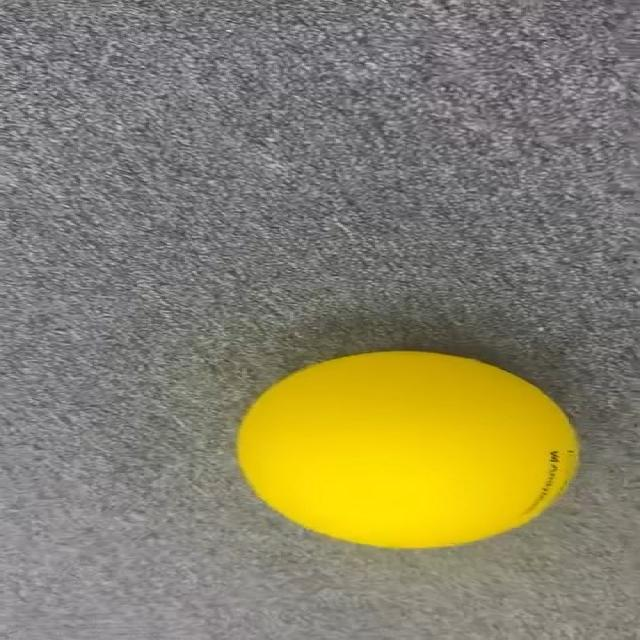Fuels: (238, 352, 574, 546)
